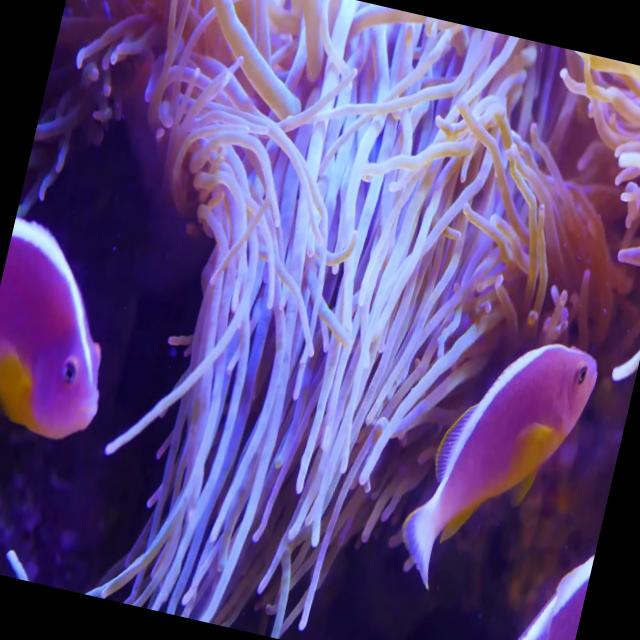fish: (378, 292, 606, 611), (0, 200, 144, 464)
